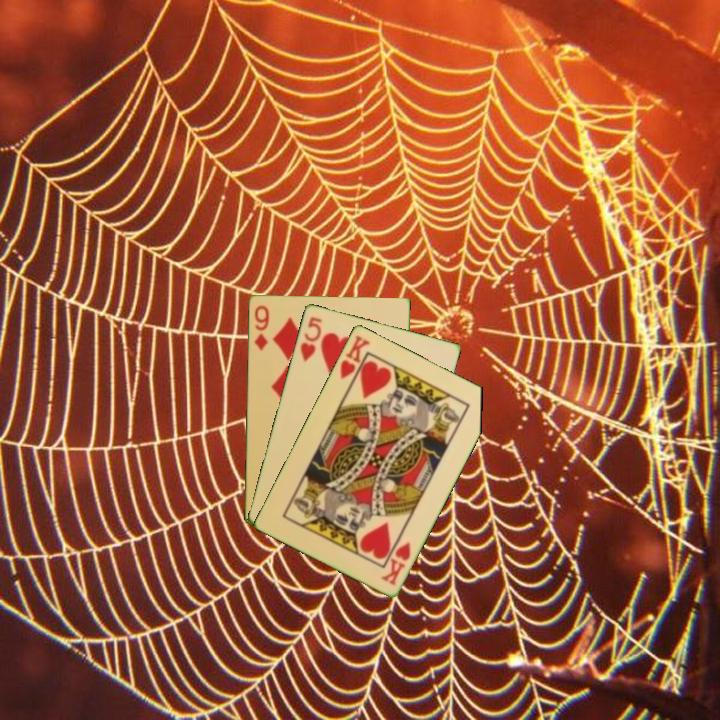5h: (296, 313, 325, 365)
9d: (251, 301, 271, 353)
Kh: (336, 331, 373, 389), (378, 538, 413, 588)
